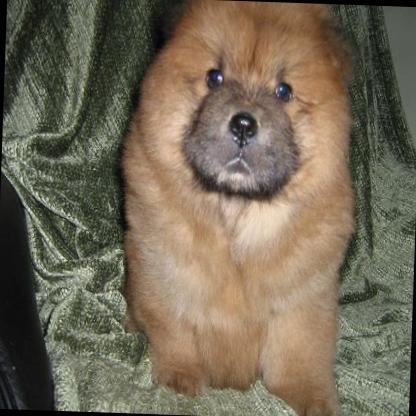chow: (108, 0, 364, 416)
